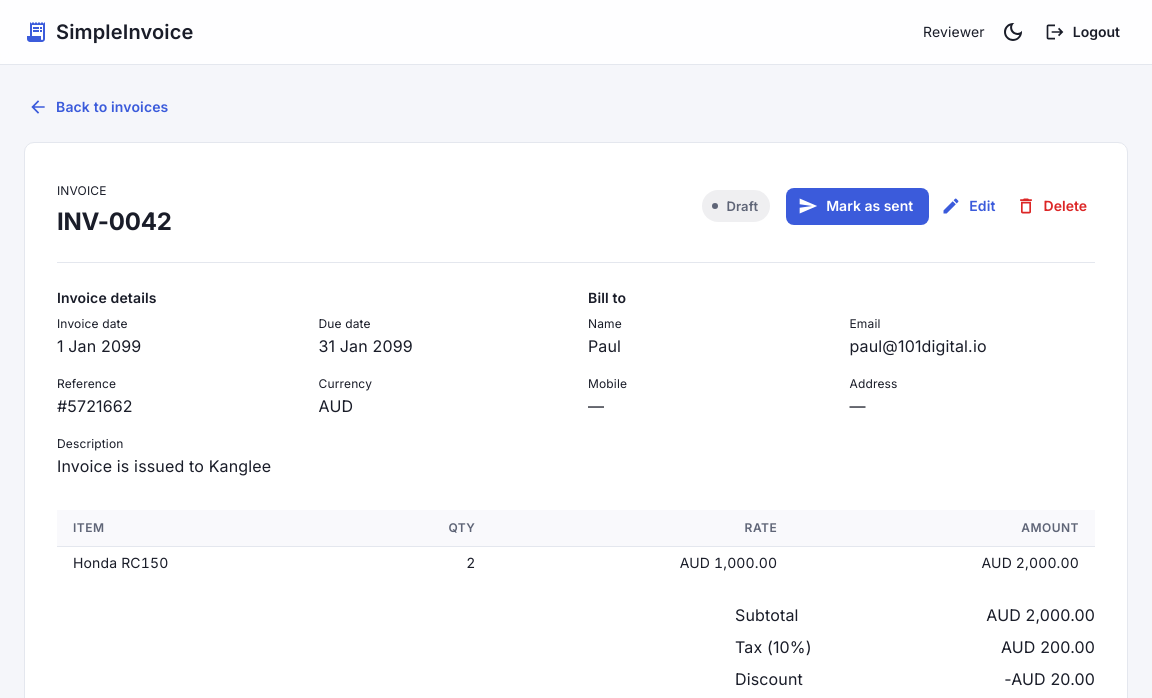
Test: Deleting a draft › shows the reason when the server refuses
This screenshot has width=1152, height=698.
Click the button "Delete".
click(1053, 206)  # box [1012, 188, 1095, 225]
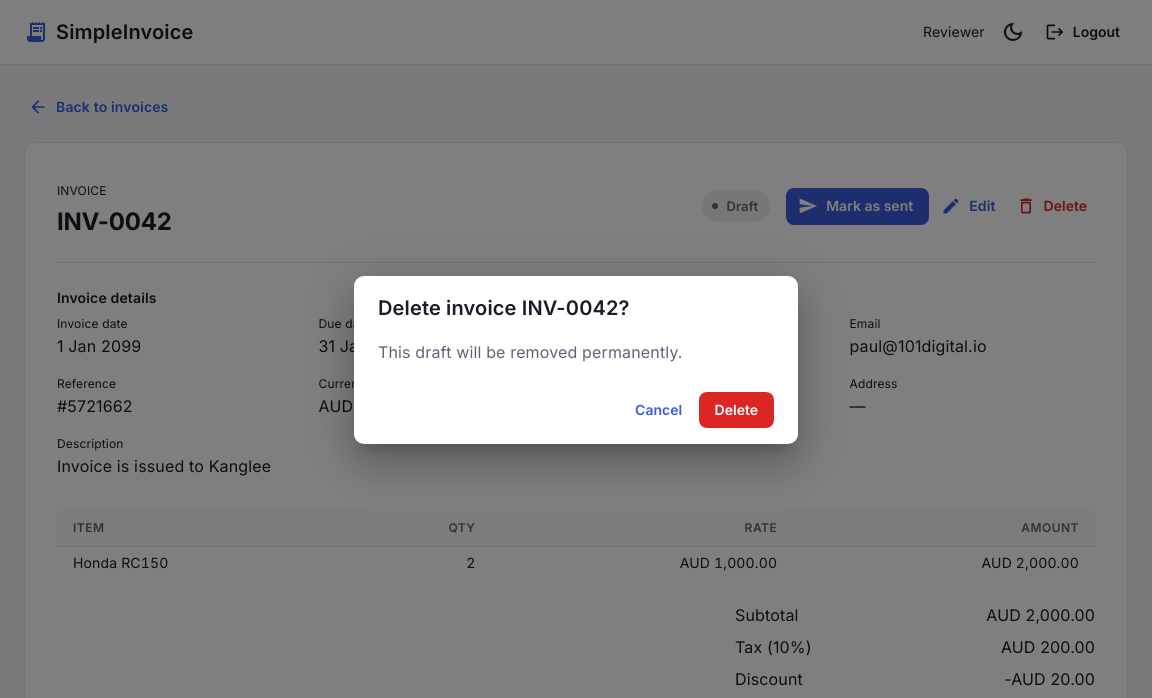
Click the button "Delete".
click(736, 410)  # box [699, 392, 774, 428]
(page scrolled)
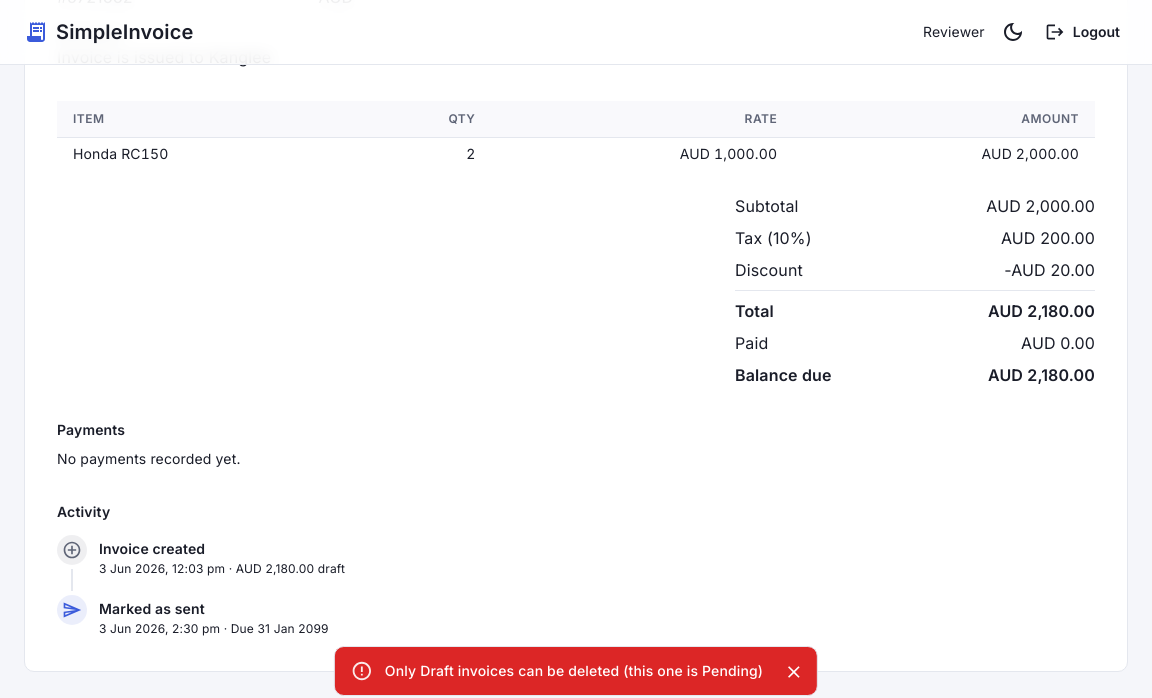
Expected: the text "Only Draft invoices can be deleted (this one is Pending)" is shown, [385, 662, 763, 679]
